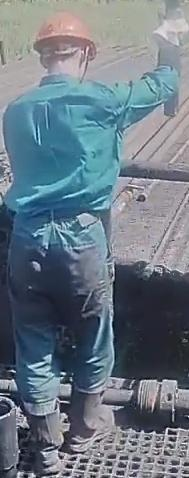gloves: (152, 5, 188, 66)
helmet: (33, 11, 98, 59)
vest: (0, 74, 128, 229)
